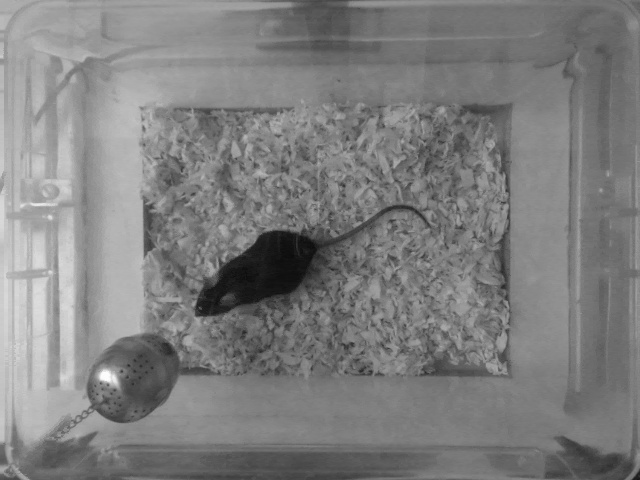mice: (195, 205, 434, 320)
